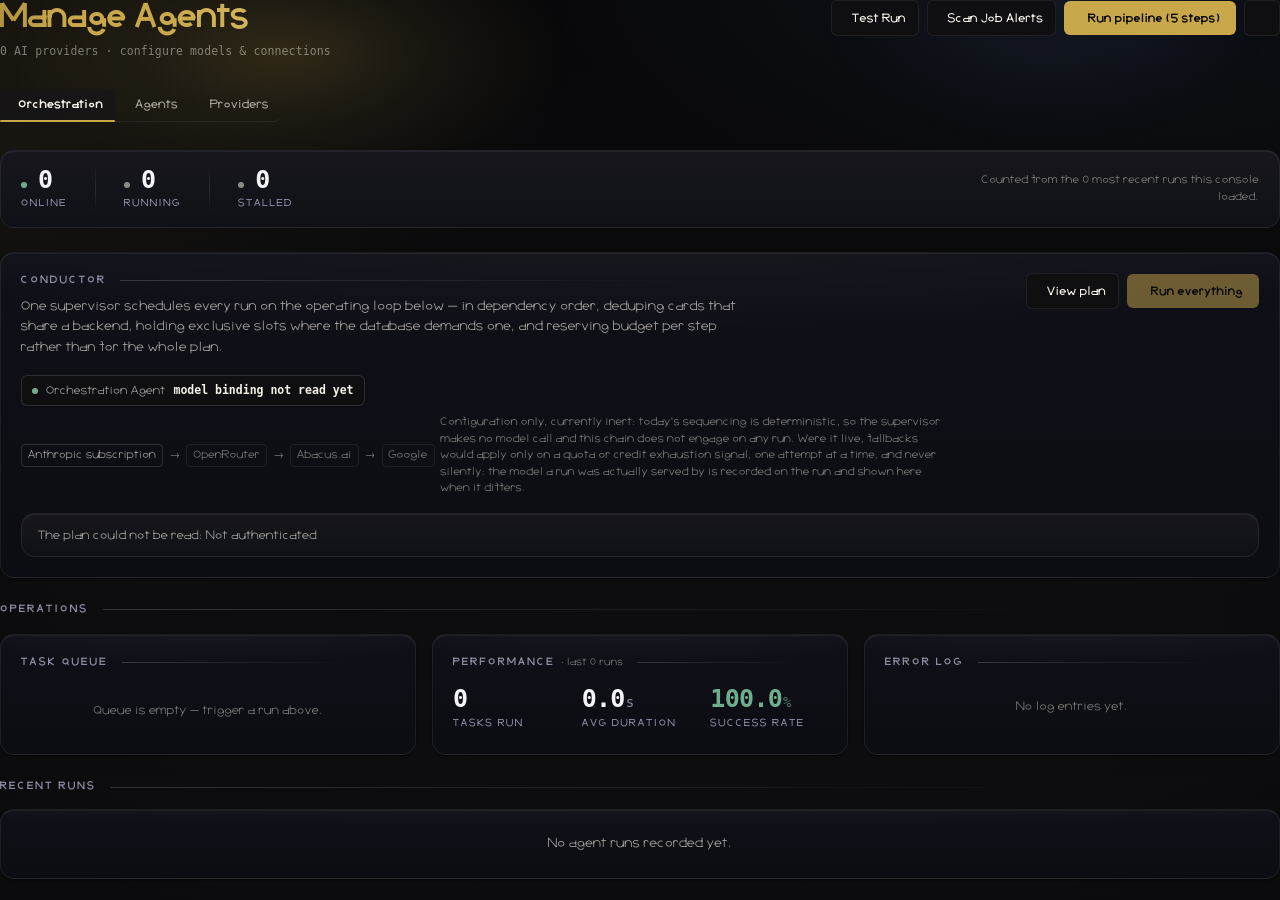
Scenario: Agents console — the job-alert intake is reachable here too › no Gmail connected is reported as a problem, never as a finished scan
What coordinates should you click on to do the following:
click the button with test id "agents-scan-job-alerts"
I would click on:
 (992, 18)
Its box is [927,0,1056,36].
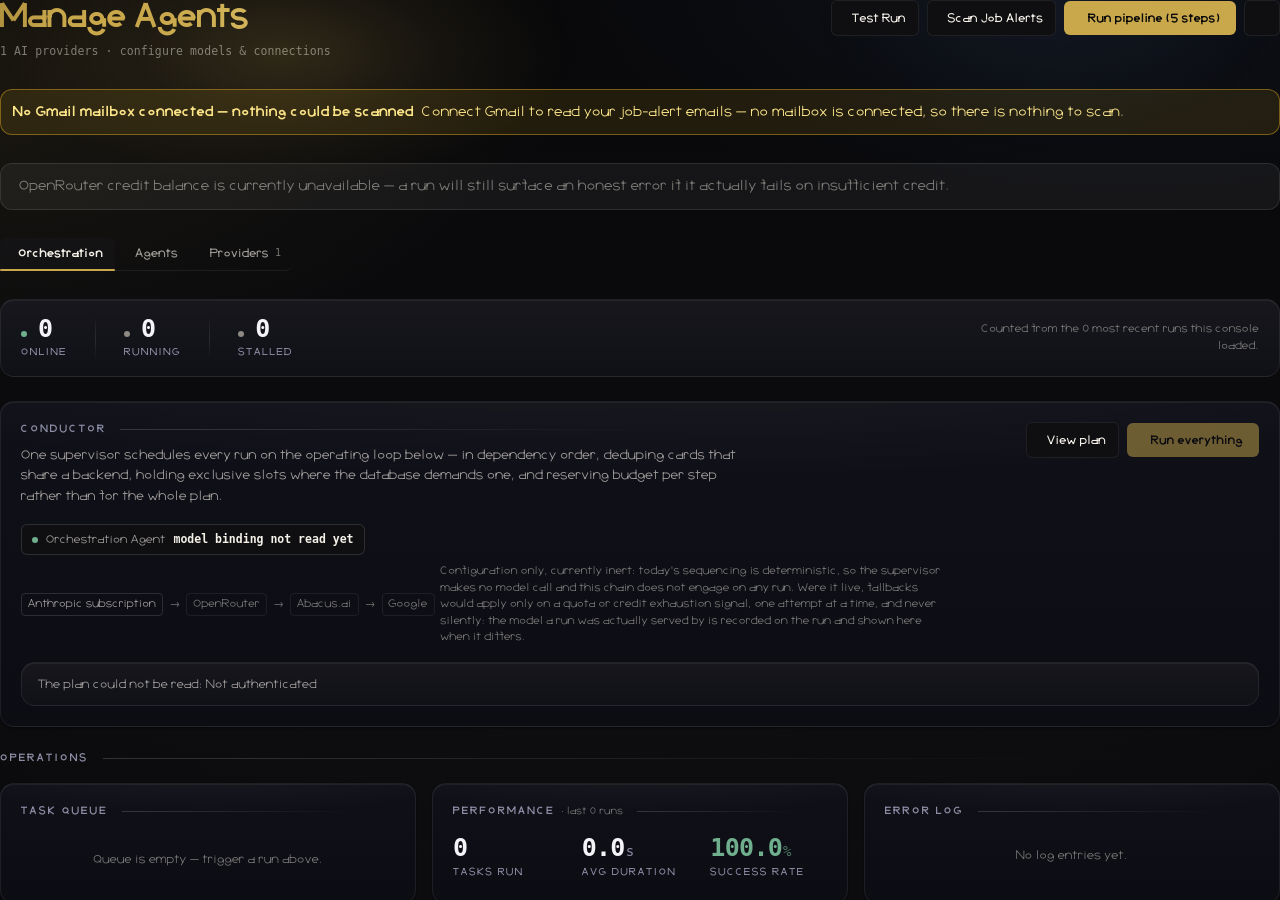
Check: the message with test id "agents-job-alerts-notice" shows "No Gmail mailbox connected", box [13,105,414,119]
